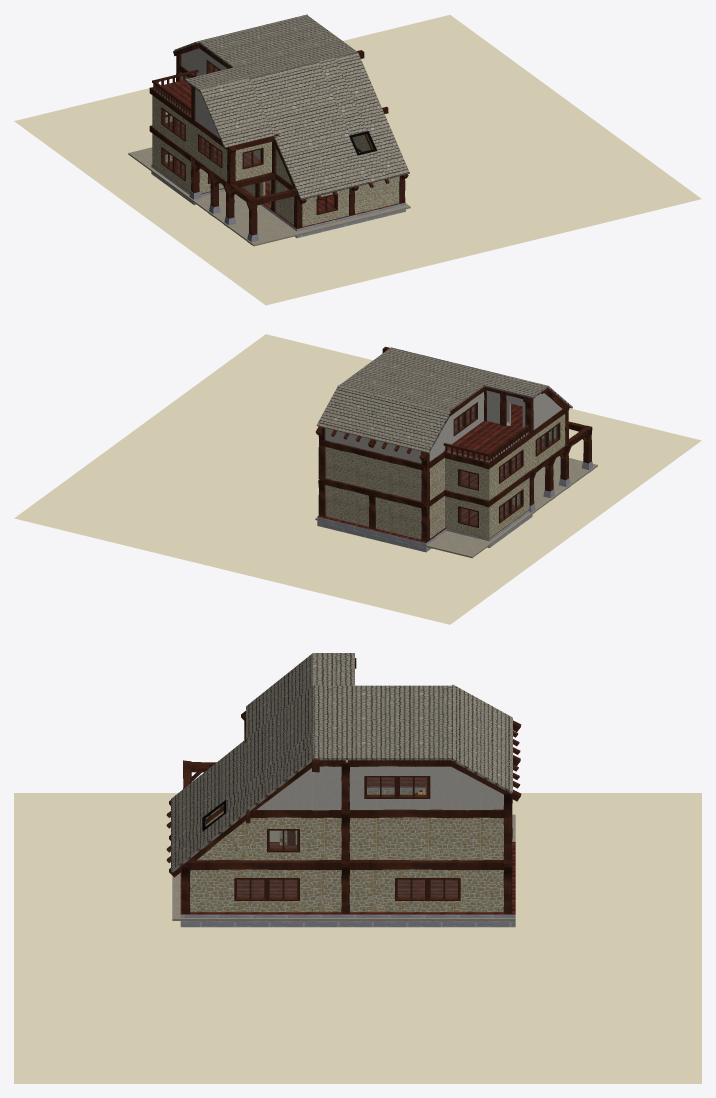
3 views of the same model, one above another, from view 1: azimuth 30°, elevation 25°; view 2: azimuth 150°, elevation 25°; view 3: azimuth 270°, elevation 25° (orthographic). The views are drawn at different scales.
Visible parts, largest first — view 1: Terrain 7,5, Gure Baserria, prim1Mesh, Box001Mesh; view 2: Terrain 7,5, Gure Baserria, prim1Mesh, TORRE BASERRI, Box001Mesh; view 3: Terrain 7,5, Gure Baserria, Box001Mesh (×5), Box003 (×3).
Boxes of the visible parts, bbox=[...] form: Terrain 7,5: bbox=[14, 15, 701, 305]; Gure Baserria: bbox=[128, 14, 410, 246]; prim1Mesh: bbox=[190, 157, 257, 235]; Box001Mesh: bbox=[149, 87, 227, 150]; Terrain 7,5: bbox=[14, 334, 701, 624]; Gure Baserria: bbox=[315, 347, 597, 558]; prim1Mesh: bbox=[529, 425, 592, 505]; TORRE BASERRI: bbox=[446, 503, 532, 547]; Box001Mesh: bbox=[484, 407, 566, 469]; Terrain 7,5: bbox=[14, 793, 701, 1083]; Gure Baserria: bbox=[171, 653, 515, 927]; Box001Mesh (×5): bbox=[181, 760, 509, 869]; Box003 (×3): bbox=[237, 777, 457, 897].
Size of the model in its own units: 64 by 17.41 by 64.
Materials: 20 (16 with a texture image).
